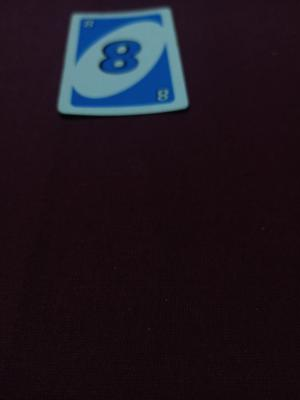blue: (83, 21, 166, 106)
